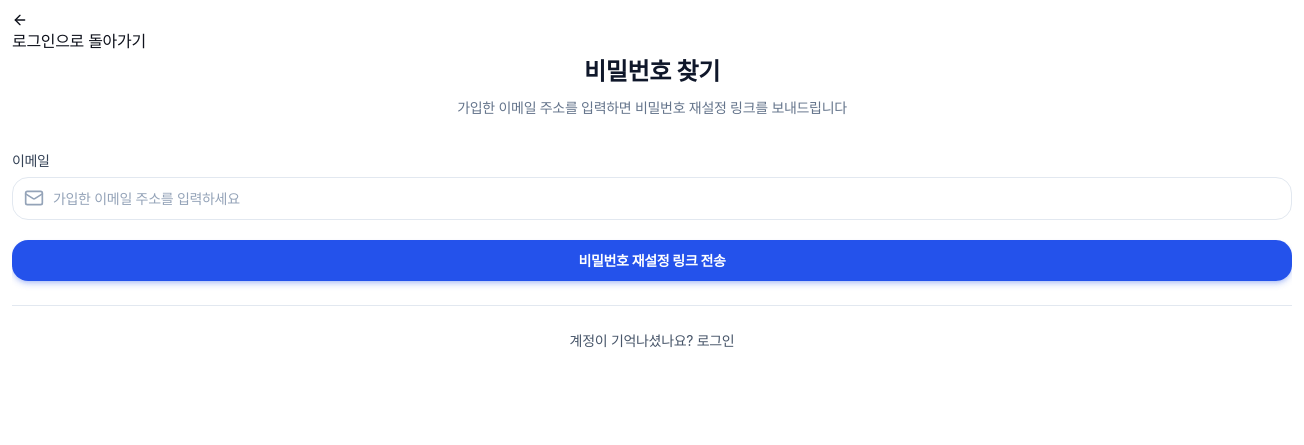
ForgotPasswordPage › 비밀번호 재설정 요청 실패 › 이메일을 찾을 수 없을 때 에러 메시지를 표시한다
This screenshot has width=1304, height=445.
Type "nonexistent@example.com" into the field labelled "이메일".
click(652, 198); type("nonexistent@example.com")  # box [12,177,1292,220]
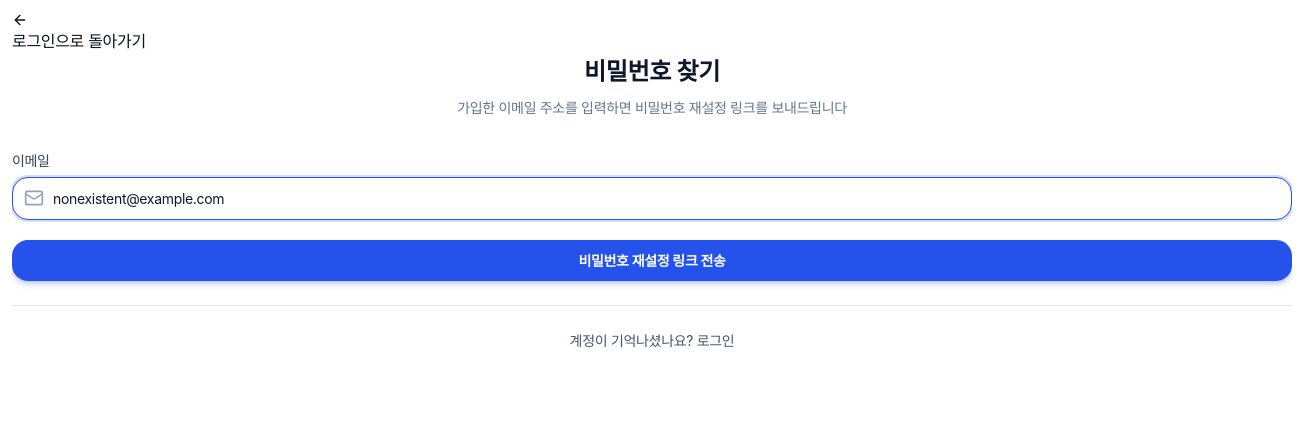
Click the button "비밀번호 재설정 링크 전송".
click(652, 260)  # box [12,240,1292,281]
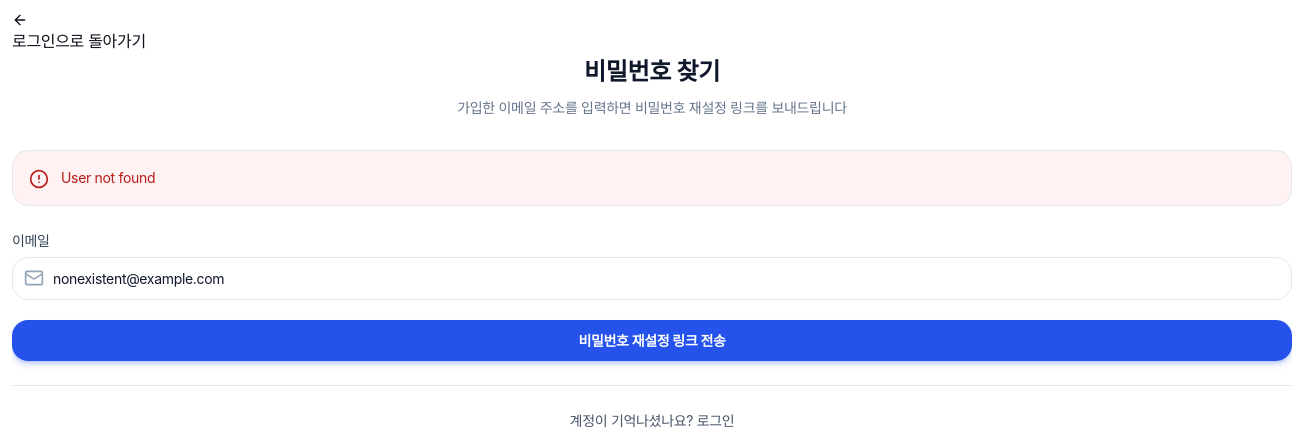
Check: the message "User not found" is shown, box [12,150,1292,206]
Check: the text "User not found" is shown, box [61,167,155,188]
